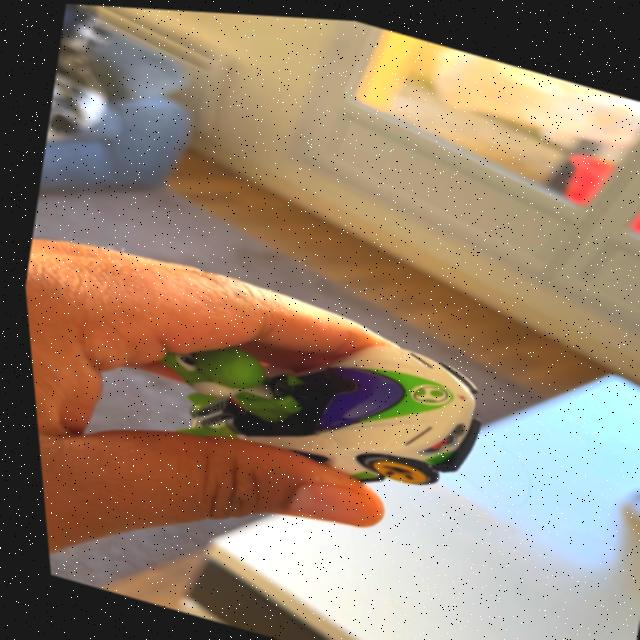yoshi: (99, 279, 479, 518)
